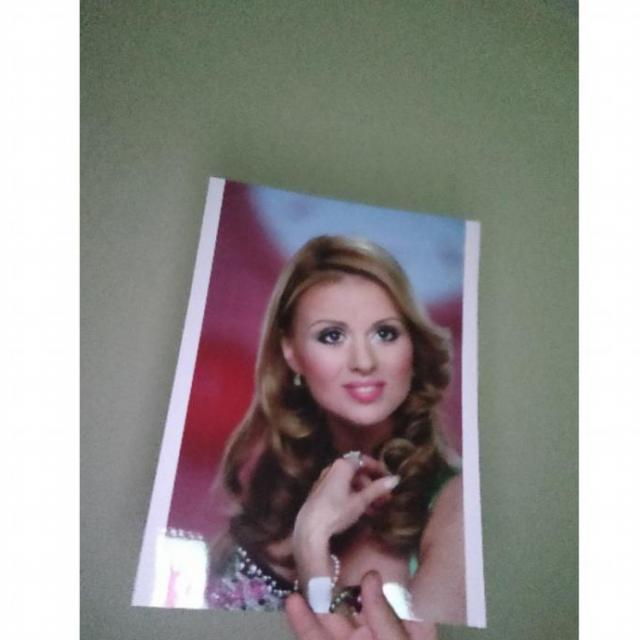photo: (131, 170, 494, 640)
